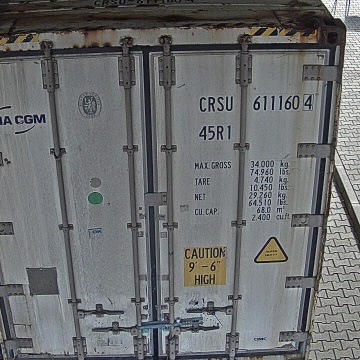serial_id: (198, 94, 312, 112)
